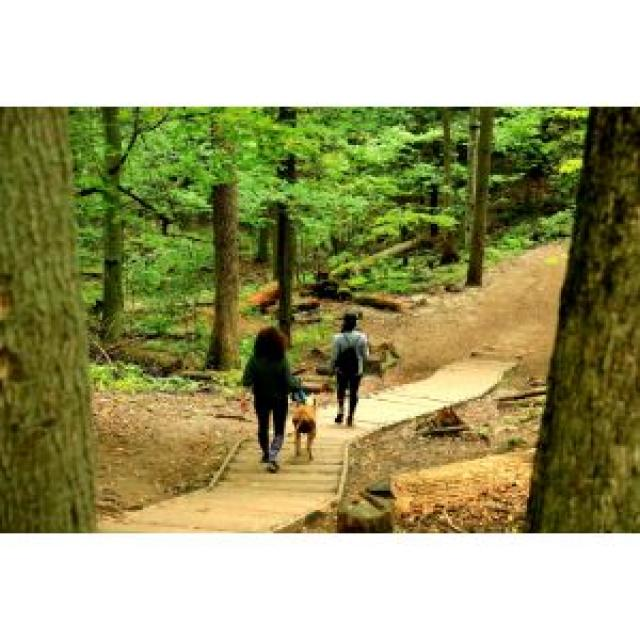nonfall: (221, 326, 310, 470), (320, 296, 388, 425)
